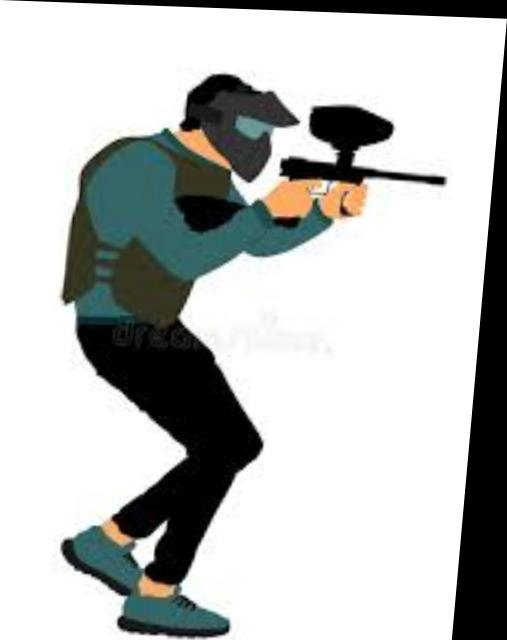other: (66, 66, 303, 606)
